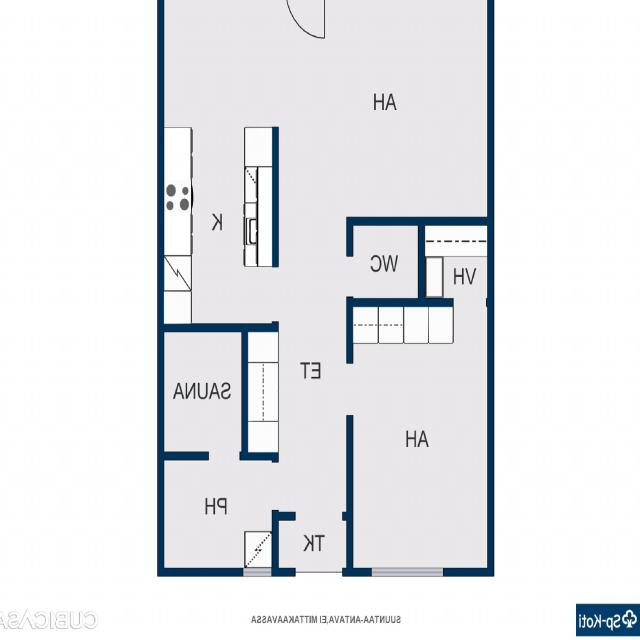door: (286, 0, 324, 42)
